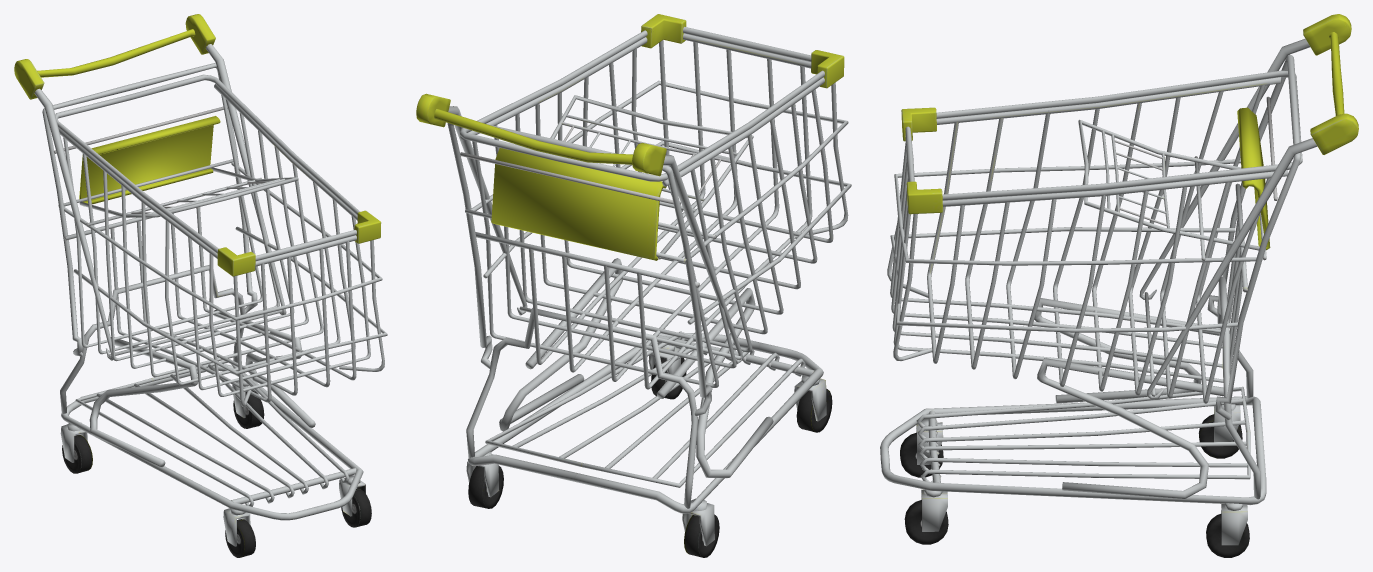
File: shopping_cart.gltf
3 views of the same model, side by side, from view 1: azimuth 30°, elevation 25°; view 2: azimuth 150°, elevation 25°; view 3: azimuth 270°, elevation 25° (orthographic). The views are drawn at different scales.
Visible parts, largest first — view 1: Object_2; view 2: Object_2; view 3: Object_2.
Boxes of the visible parts, x1,y1,x2,y2 form: Object_2: [14, 14, 387, 557]; Object_2: [416, 14, 851, 557]; Object_2: [880, 14, 1358, 557].
Bounding box in the file's own units: 1.6 × 2.99 × 2.96.
Materials: 1 (1 with a texture image).
